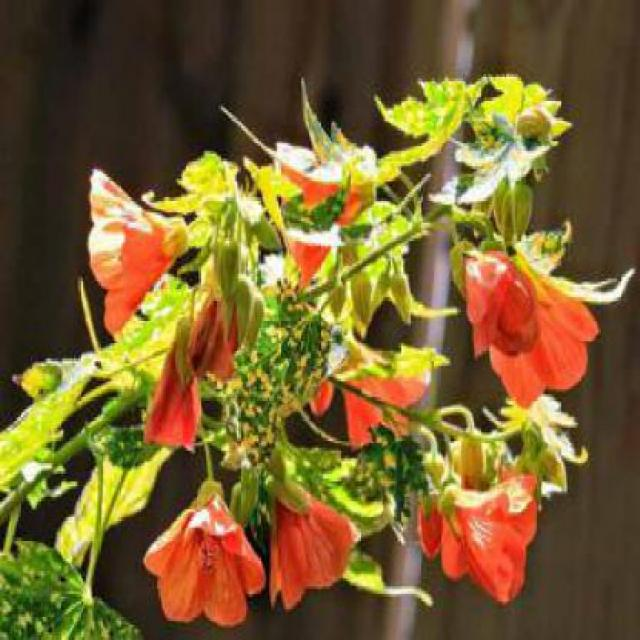Flower: (463, 251, 599, 408), (85, 163, 188, 335), (141, 492, 264, 630), (440, 476, 538, 607), (262, 482, 355, 613), (266, 139, 377, 239), (147, 322, 202, 456), (190, 289, 242, 385), (193, 537, 221, 574)
